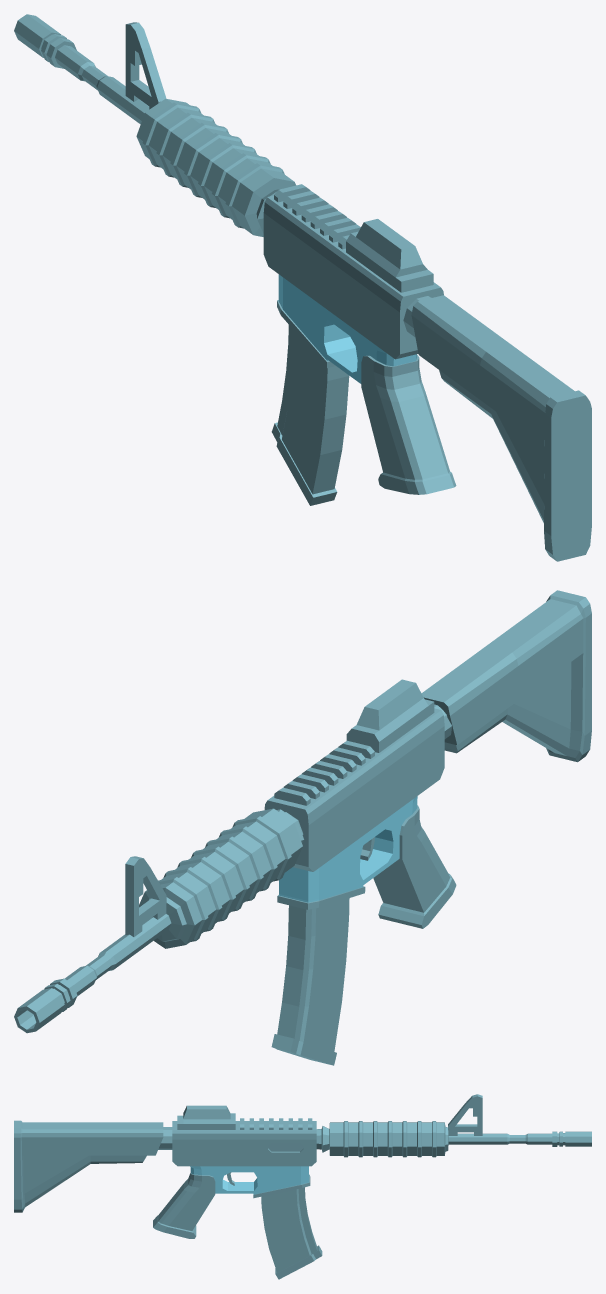
The model's file is frost.glb.
The picture shows the model from 3 angles, top to bottom: view 1: azimuth 30°, elevation 25°; view 2: azimuth 150°, elevation 25°; view 3: azimuth 270°, elevation 25°; orthographic projection. The views are drawn at different scales.
Visible parts, largest first — view 1: RIVALS-rifle; view 2: RIVALS-rifle; view 3: RIVALS-rifle.
Part boxes in pixels (x1=…): RIVALS-rifle: x1=14, y1=14, x2=591, y2=561; RIVALS-rifle: x1=14, y1=590, x2=591, y2=1065; RIVALS-rifle: x1=14, y1=1094, x2=591, y2=1279.
Bounding box in the file's own units: 0.1776 × 0.918 × 2.65.
